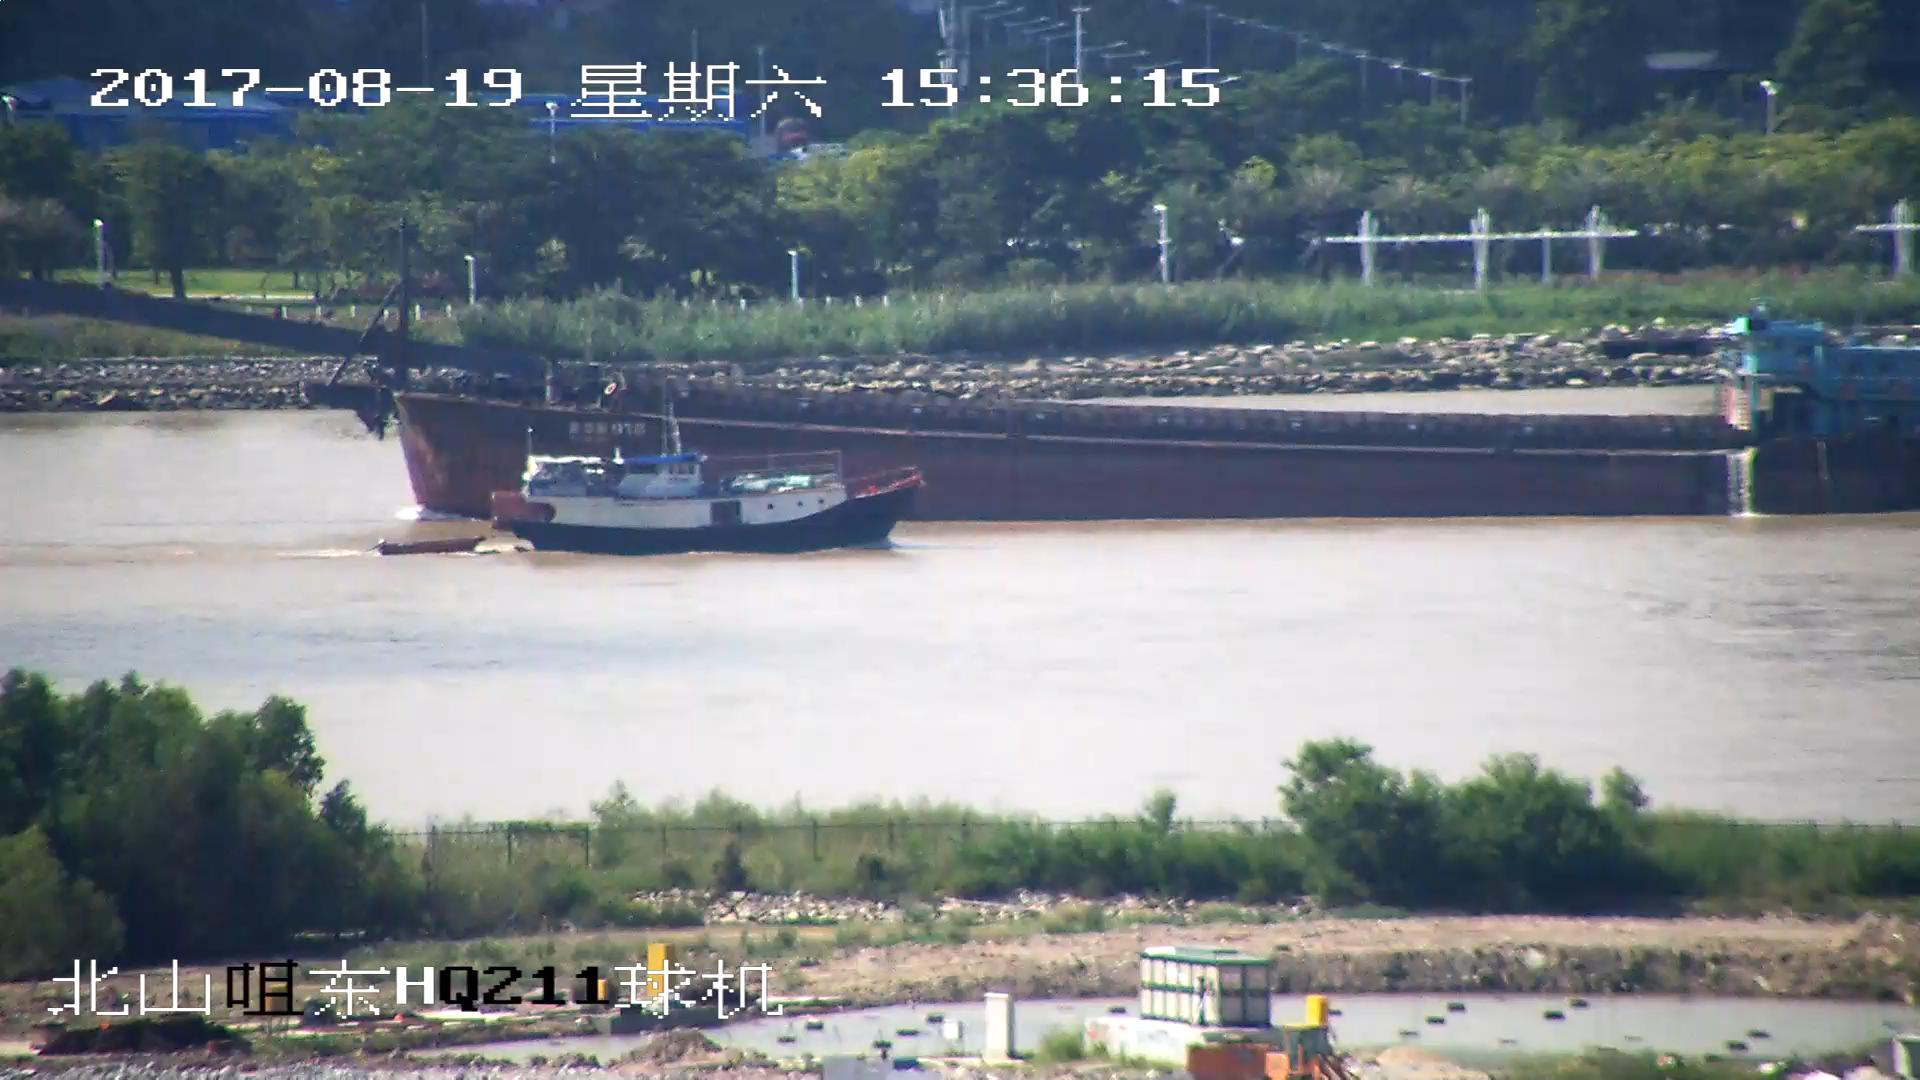bulk cargo carrier: (1, 267, 1920, 518)
fishing boat: (372, 449, 921, 559)
